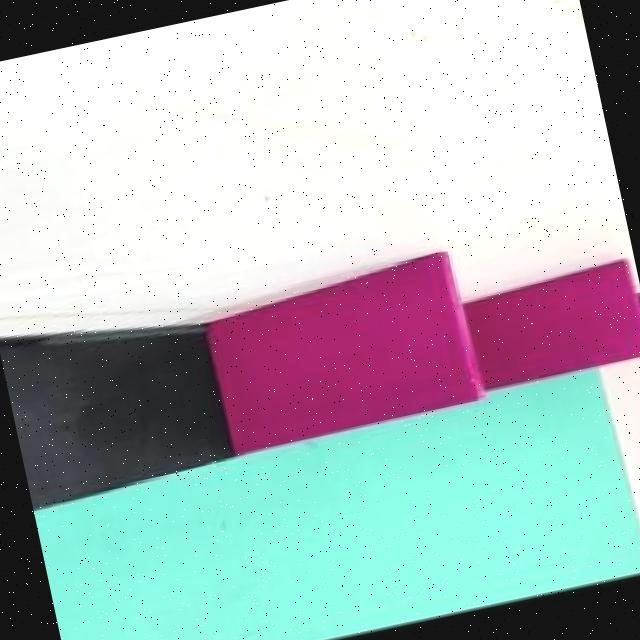xparking: (212, 270, 477, 443), (471, 270, 640, 391)
